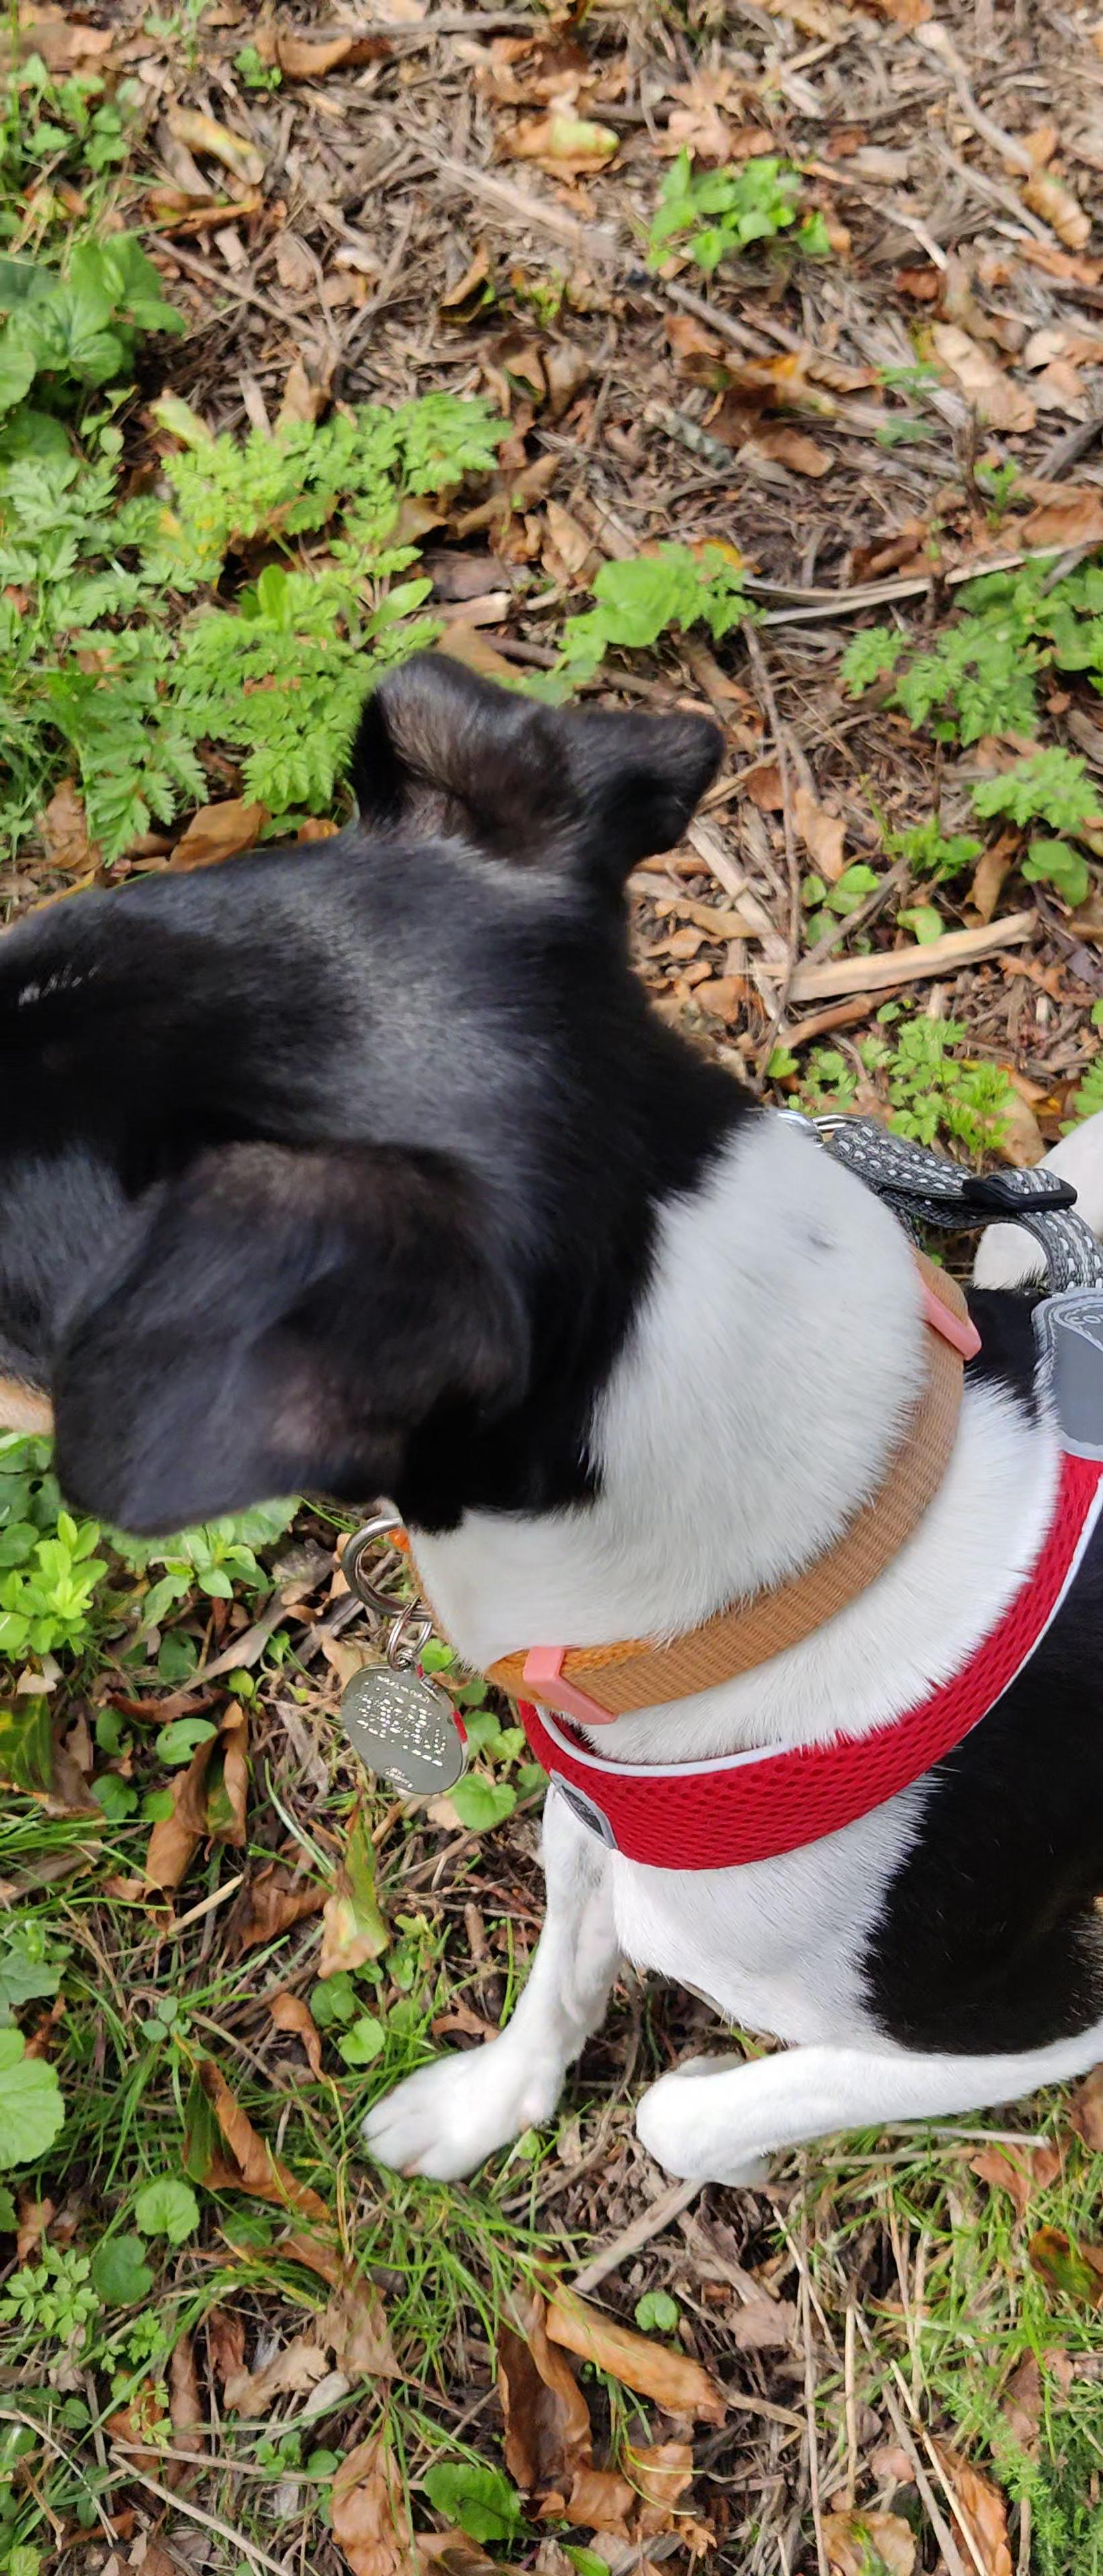Dog: (0, 601, 1103, 2300)
